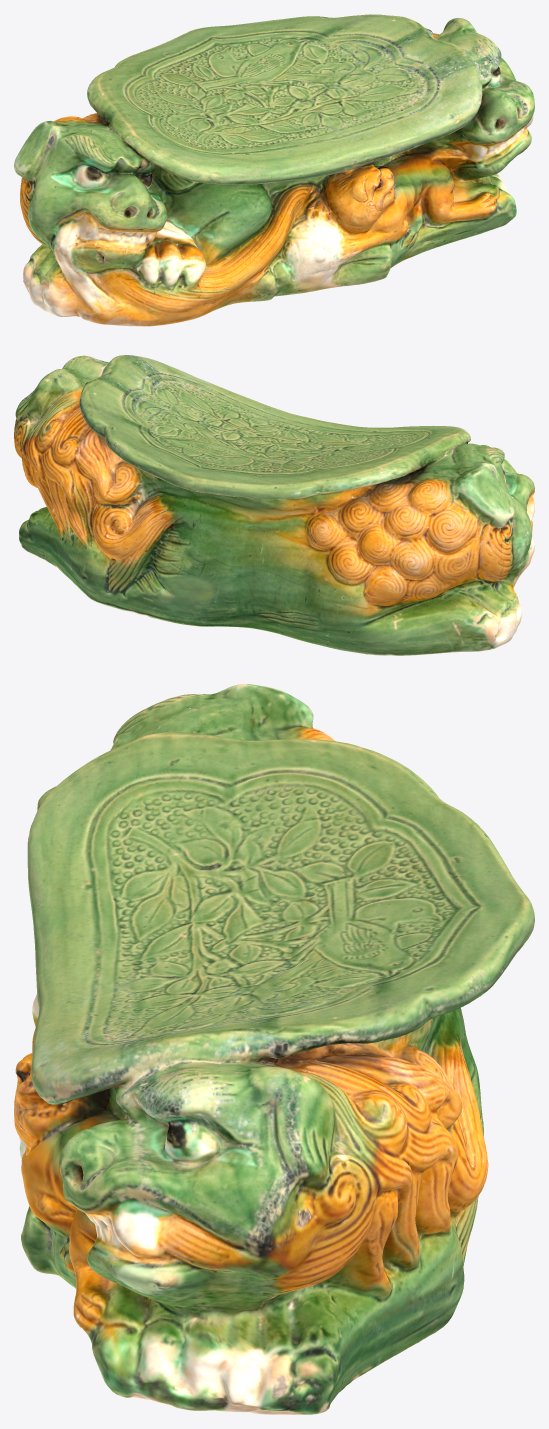
Rendered from headrest-three-lions-studio.glb.
3 views of the same model, one above another, from view 1: azimuth 30°, elevation 25°; view 2: azimuth 150°, elevation 25°; view 3: azimuth 270°, elevation 25° (orthographic). The views are drawn at different scales.
Visible parts, largest first — view 1: Object_2; view 2: Object_2; view 3: Object_2.
Part boxes in pixels (<box>): Object_2: <box>14,14,534,326</box>; Object_2: <box>14,355,534,655</box>; Object_2: <box>14,684,534,1414</box>.
Bounding box in the file's own units: 77.99 × 27.62 × 37.89.
Materials: 1 (1 with a texture image).
